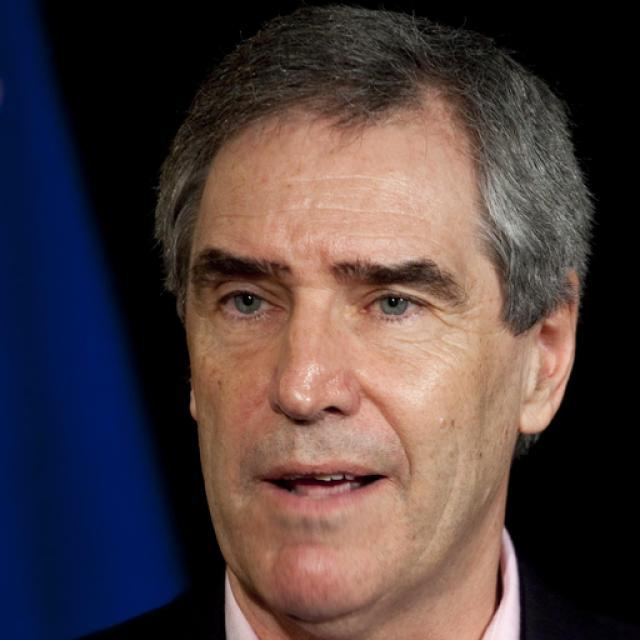disgust: (182, 84, 518, 622)
